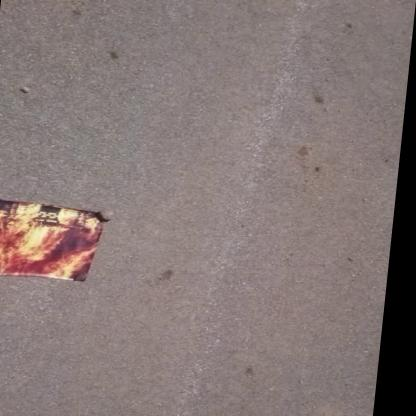fire-poster: (0, 196, 119, 284)
